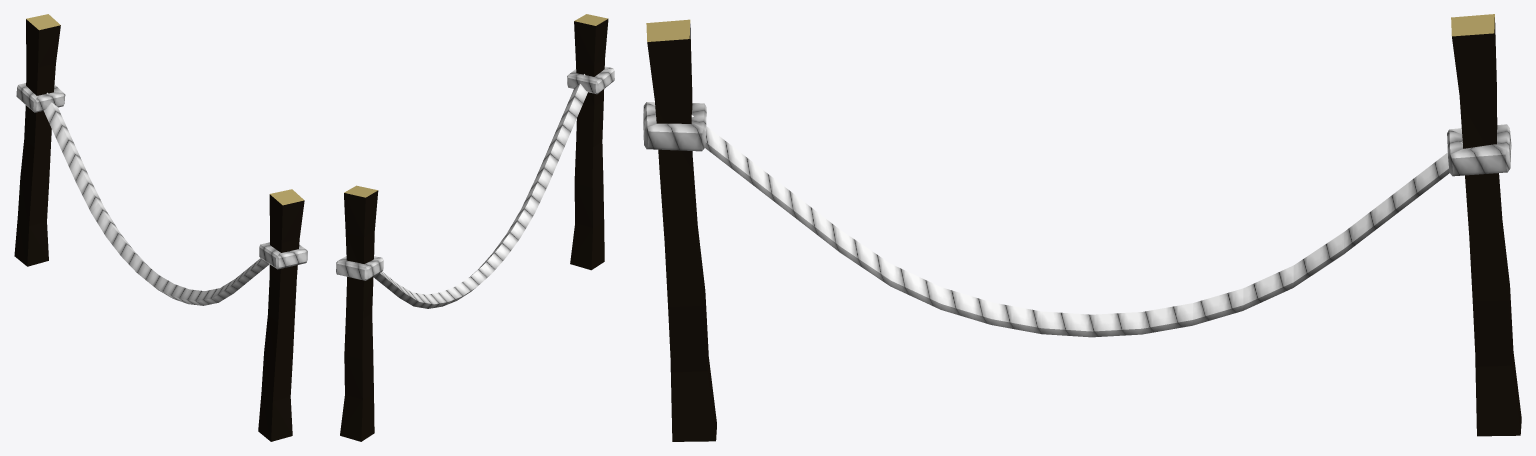
The model's file is fence1.fbx.
The picture shows the model from 3 angles, left to right: view 1: azimuth 30°, elevation 25°; view 2: azimuth 150°, elevation 25°; view 3: azimuth 270°, elevation 25°; orthographic projection. The views are drawn at different scales.
Visible parts, largest first — view 1: fence1_LOD0, rope; view 2: fence1_LOD0, rope; view 3: fence1_LOD0, rope.
Boxes of the visible parts, x1=… form: fence1_LOD0: x1=14, y1=14, x2=304, y2=441; rope: x1=16, y1=83, x2=307, y2=269; fence1_LOD0: x1=340, y1=14, x2=608, y2=441; rope: x1=336, y1=66, x2=614, y2=280; fence1_LOD0: x1=646, y1=14, x2=1521, y2=441; rope: x1=643, y1=102, x2=1511, y2=176.
Size of what is drawn, in the model's own units: 15.89 by 103 by 200.
4 materials, 2 textured.
